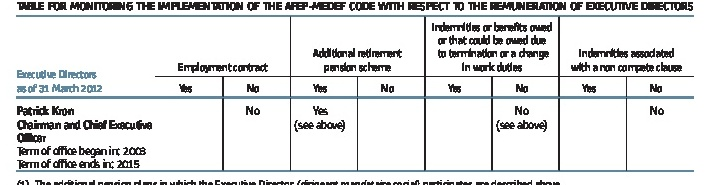table: (0, 0, 709, 185)
